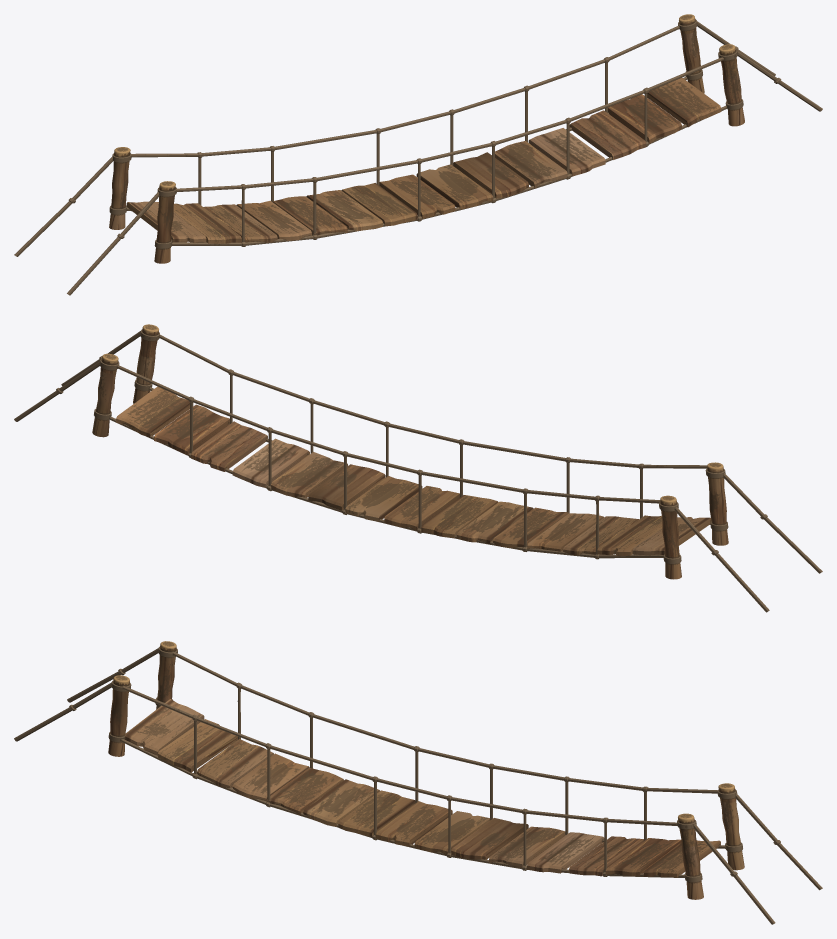
Rendered from stylized_bridge.glb.
3 renders of one model, top to bottom at view 1: azimuth 30°, elevation 25°; view 2: azimuth 150°, elevation 25°; view 3: azimuth 330°, elevation 25°, orthographic.
Parts seen in each view (by area): view 1: SM_bridge; view 2: SM_bridge; view 3: SM_bridge.
Boxes of the visible parts, left/top/right/bottom form: SM_bridge: left=14, top=14, right=822, bottom=295; SM_bridge: left=14, top=324, right=822, bottom=612; SM_bridge: left=14, top=641, right=822, bottom=924.
Bounding box in the file's own units: 12.47 × 1.57 × 1.56.
Materials: 1 (1 with a texture image).
